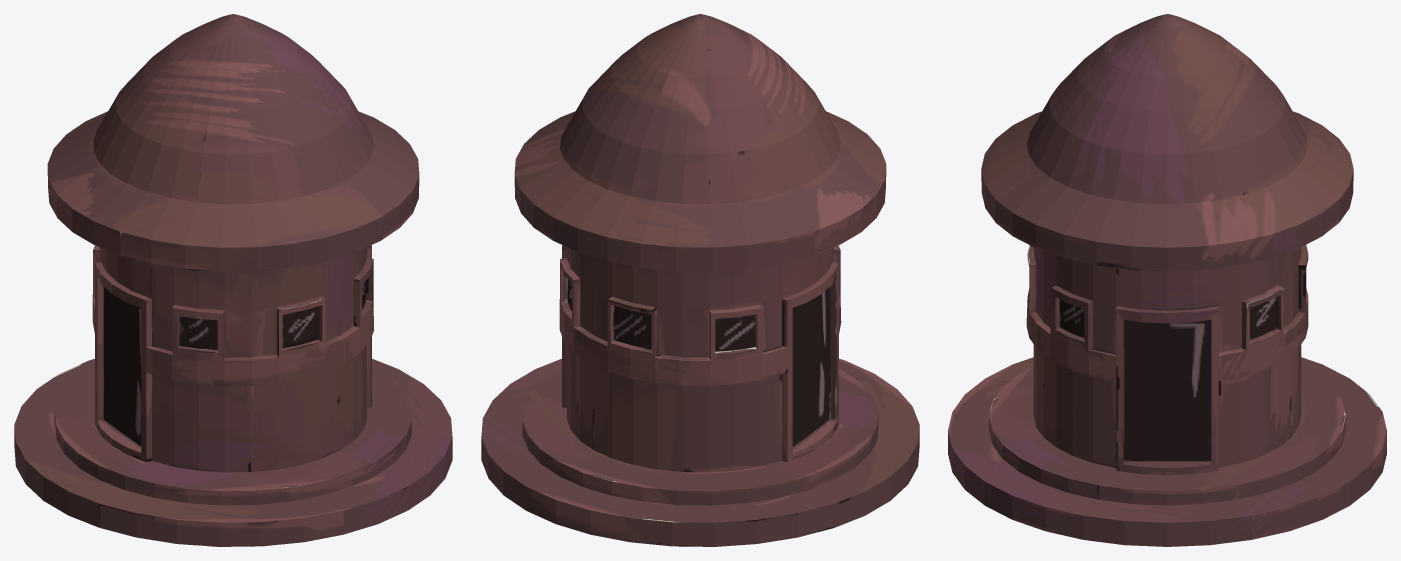
File: house2.fbx
The picture shows the model from 3 angles, left to right: view 1: azimuth 30°, elevation 25°; view 2: azimuth 150°, elevation 25°; view 3: azimuth 270°, elevation 25°; orthographic projection.
Parts seen in each view (by area): view 1: Cylinder; view 2: Cylinder; view 3: Cylinder.
Part boxes in pixels (x1,y1,x2,y2): Cylinder: [14, 14, 452, 546]; Cylinder: [481, 14, 919, 546]; Cylinder: [948, 14, 1386, 546].
Size of the model in its own units: 180 by 198 by 180.
